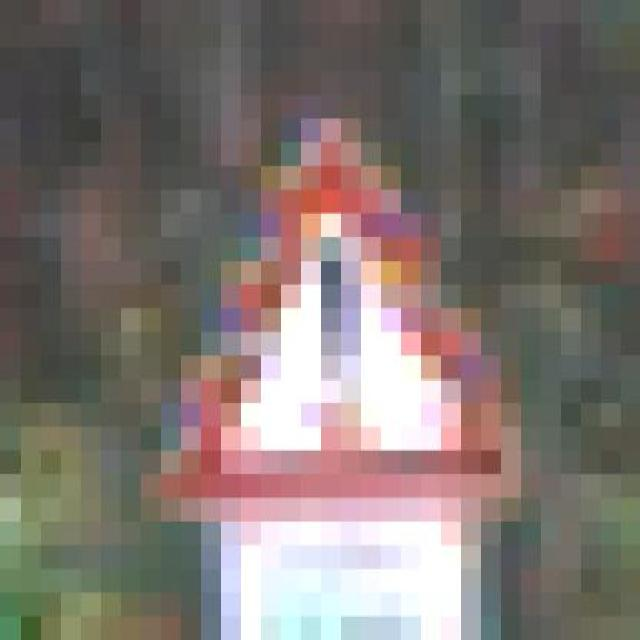Attention Please-: (100, 95, 560, 522)
